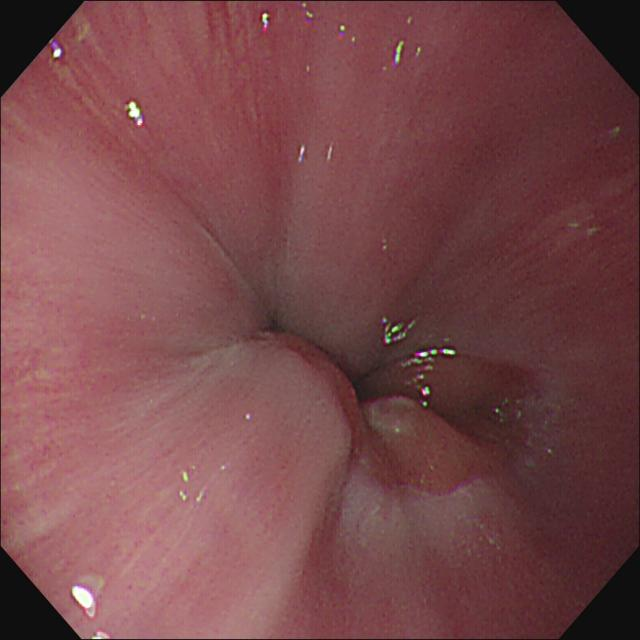I: (229, 255, 544, 535)
U: (380, 315, 419, 347), (402, 348, 460, 369), (72, 582, 100, 624), (125, 98, 148, 130), (413, 373, 432, 410), (392, 40, 409, 69), (260, 10, 275, 35), (51, 41, 64, 64)
